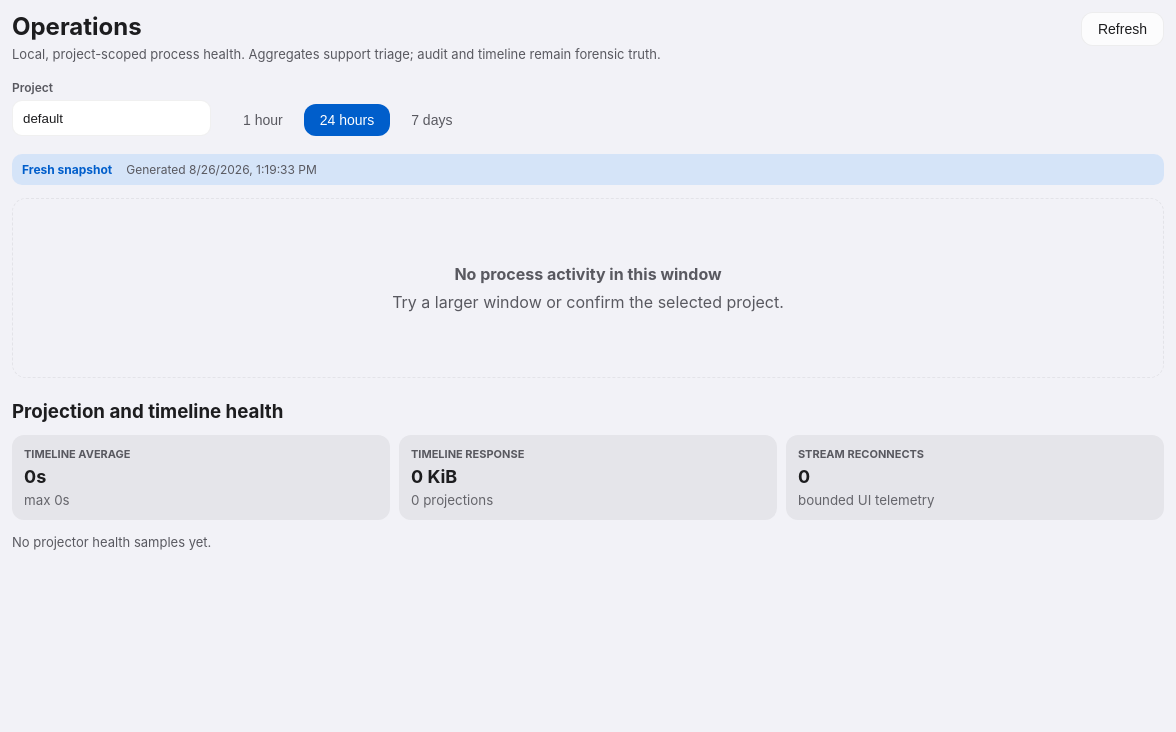
it: ExpertOperations › renders a retryable error without stale data
Check: the text "No process activity in this window" is shown, box [454, 264, 722, 284]
Clear the field named "Metrics project" at x=112, y=118, box [12, 100, 211, 136]
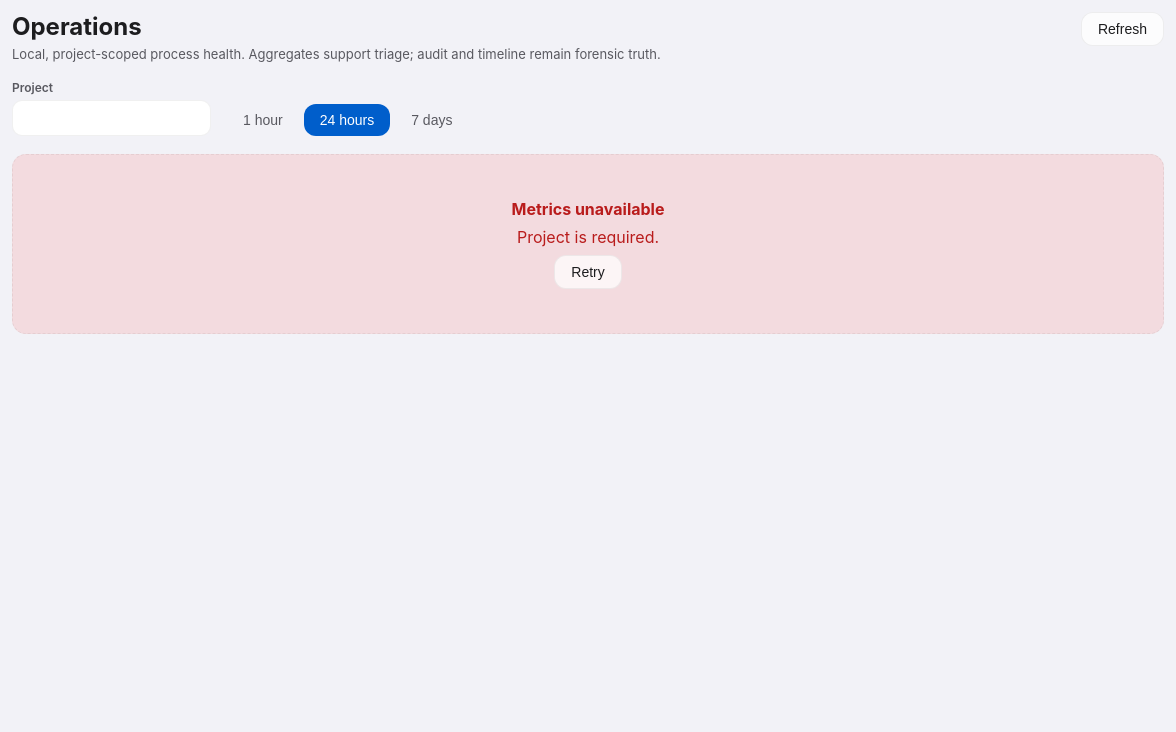
Check: the message shows "Project is required", box [517, 227, 659, 247]
Check: the button "Retry" is shown, box [554, 255, 622, 289]
